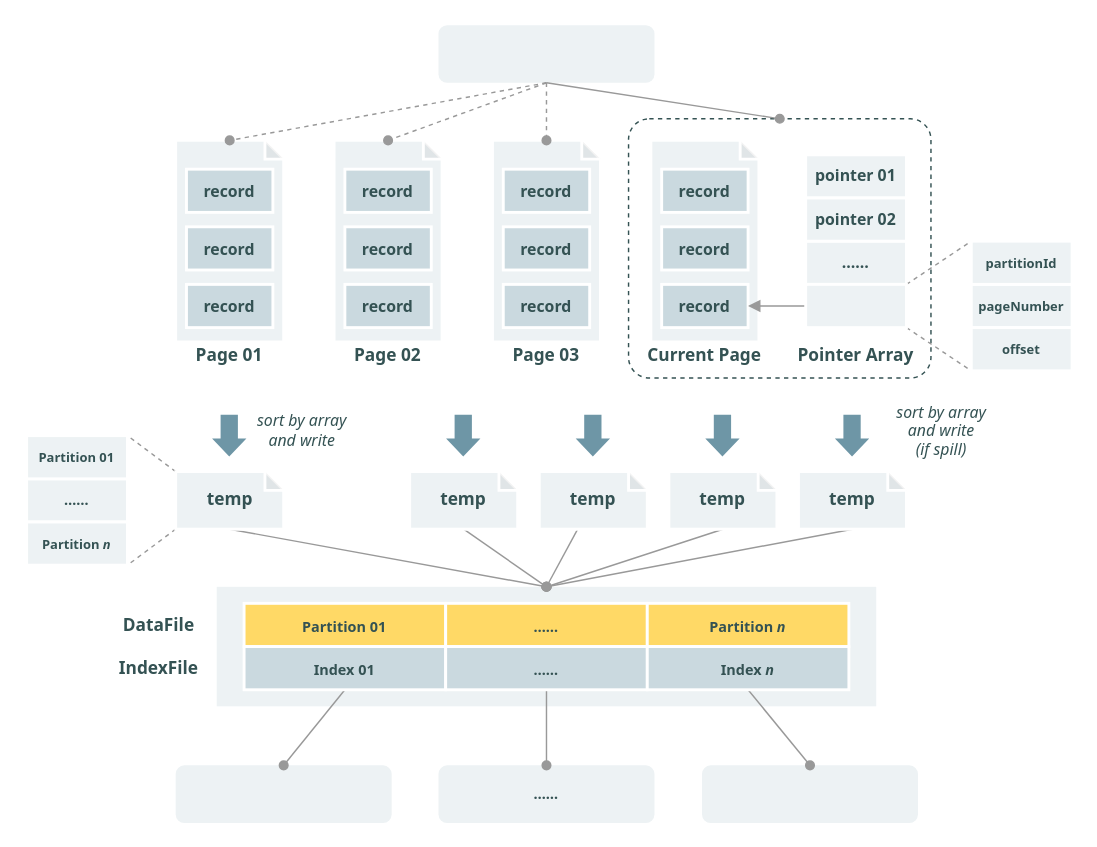
The diagram is 1097 pixels wide and 847 high, and some of its shapes have lost their labels. The centre of each missing label's shape, as x and y in pixels:
"Map Side Task" belongs at [546,53].
"pointer n" belongs at [855,305].
"Reduce Side Task 01" belongs at [283,793].
"Reduce Side Task n" belongs at [809,793].
